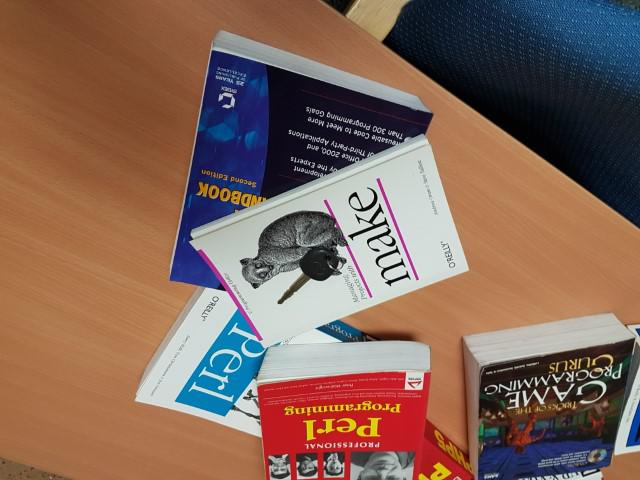key: (275, 244, 344, 308)
